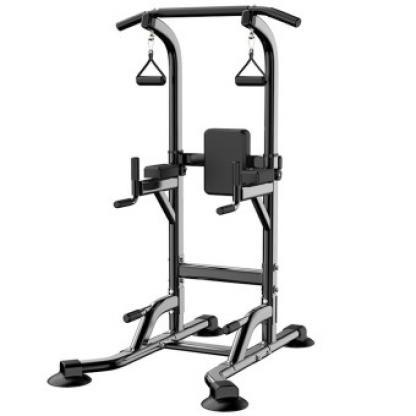chinning dipping: (45, 6, 314, 413)
